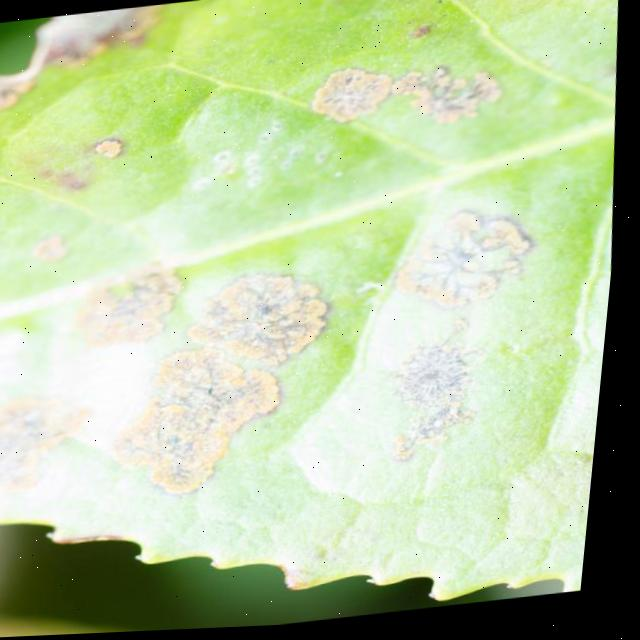Tea red rust: (0, 42, 562, 506)
